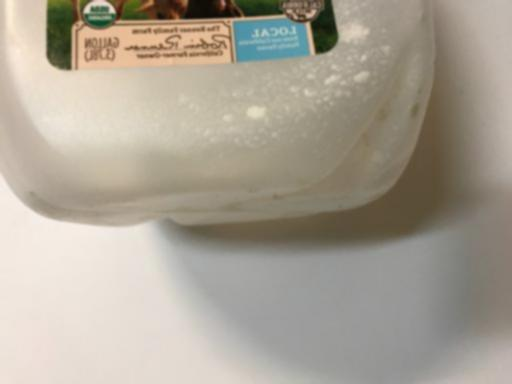HDPE: (0, 1, 436, 229)
plastic: (0, 1, 436, 229)
